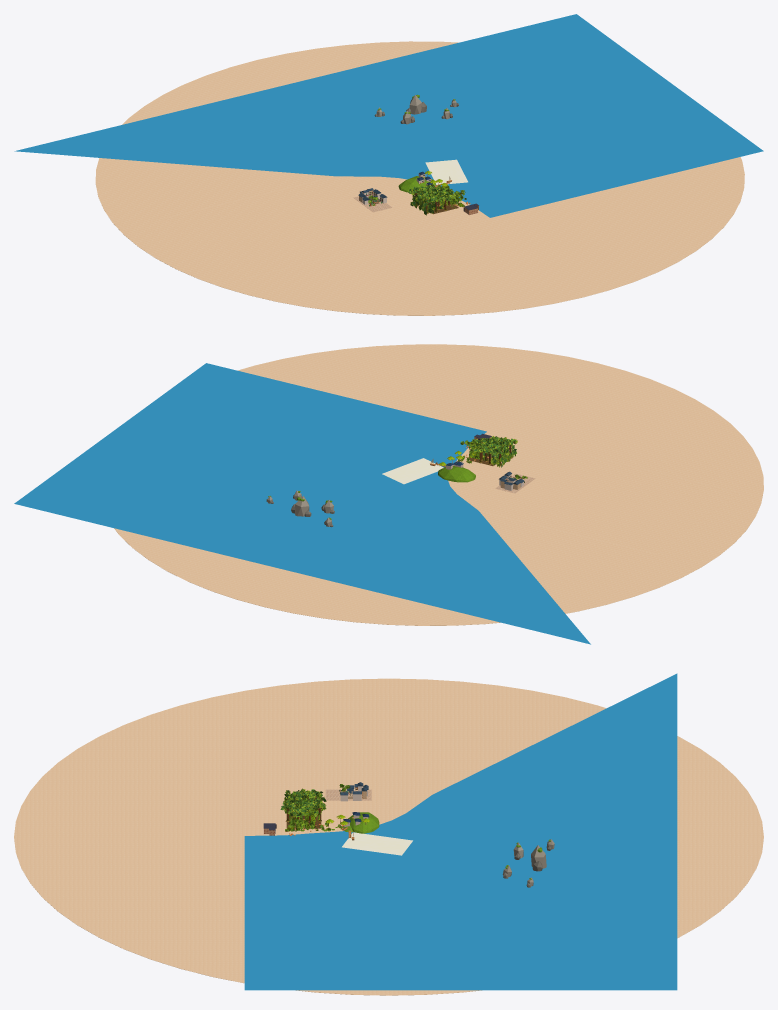
Rendered from stage.glb.
3 renders of one model, top to bottom at view 1: azimuth 30°, elevation 25°; view 2: azimuth 150°, elevation 25°; view 3: azimuth 270°, elevation 25°, orthographic. The views are drawn at different scales.
Parts seen in each view (by area): view 1: Stage_water_toon, Stage_leito_areia, Stage_areia, Stage_glint_sol; view 2: Stage_water_toon, Stage_leito_areia, Stage_areia, Stage_glint_sol, Stage_grama; view 3: Stage_water_toon, Stage_leito_areia, Stage_areia, Stage_glint_sol, Stage_grama.
Part boxes in pixels (box(x1,y1,x2,y2)): Stage_water_toon: box(14, 14, 763, 217); Stage_leito_areia: box(95, 41, 744, 315); Stage_areia: box(164, 176, 489, 277); Stage_glint_sol: box(425, 159, 467, 184); Stage_water_toon: box(14, 363, 590, 644); Stage_leito_areia: box(114, 344, 763, 625); Stage_areia: box(448, 431, 738, 553); Stage_glint_sol: box(382, 458, 443, 484); Stage_grama: box(268, 456, 475, 519); Stage_water_toon: box(244, 673, 677, 990); Stage_leito_areia: box(14, 678, 763, 995); Stage_areia: box(244, 697, 432, 835); Stage_glint_sol: box(342, 832, 412, 855); Stage_grama: box(289, 812, 550, 879).
Size of the model in its own units: 520 by 31.56 by 520.
117 materials, 106 textured.
